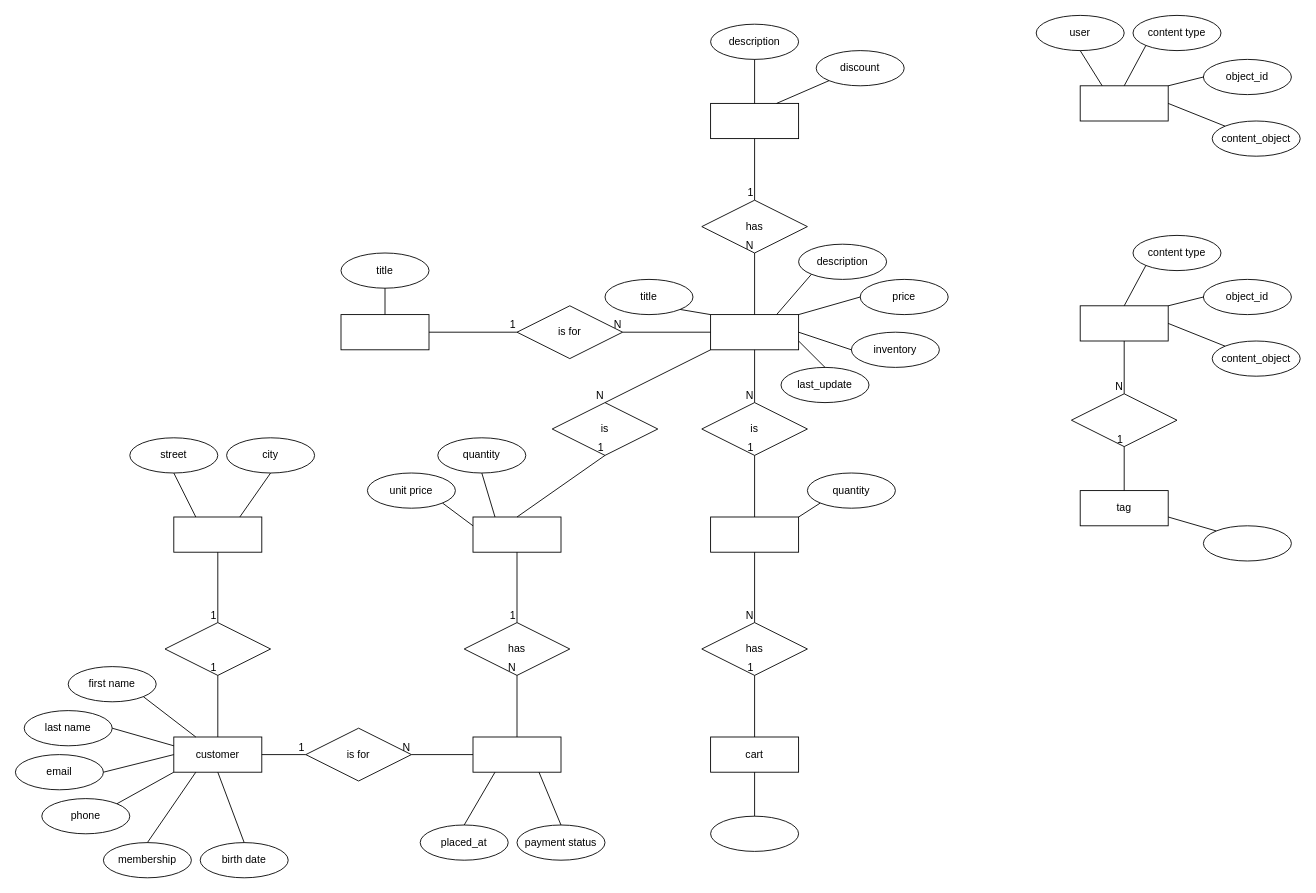
The diagram is 1316 pixels wide and 893 high, and some of its shapes have lost their labels. The centre of each missing label's shape, as x and y in pixels:
address: point 217,534
cart item: point 754,534
collection: point 384,332
created_at: point 754,833
lable: point 1247,543
liked item: point 1123,103
live in: point 217,648
order: point 516,754
order item: point 516,534
product: point 754,332
promotion: point 754,121
Relationship: point 1124,420
tagged item: point 1123,323
